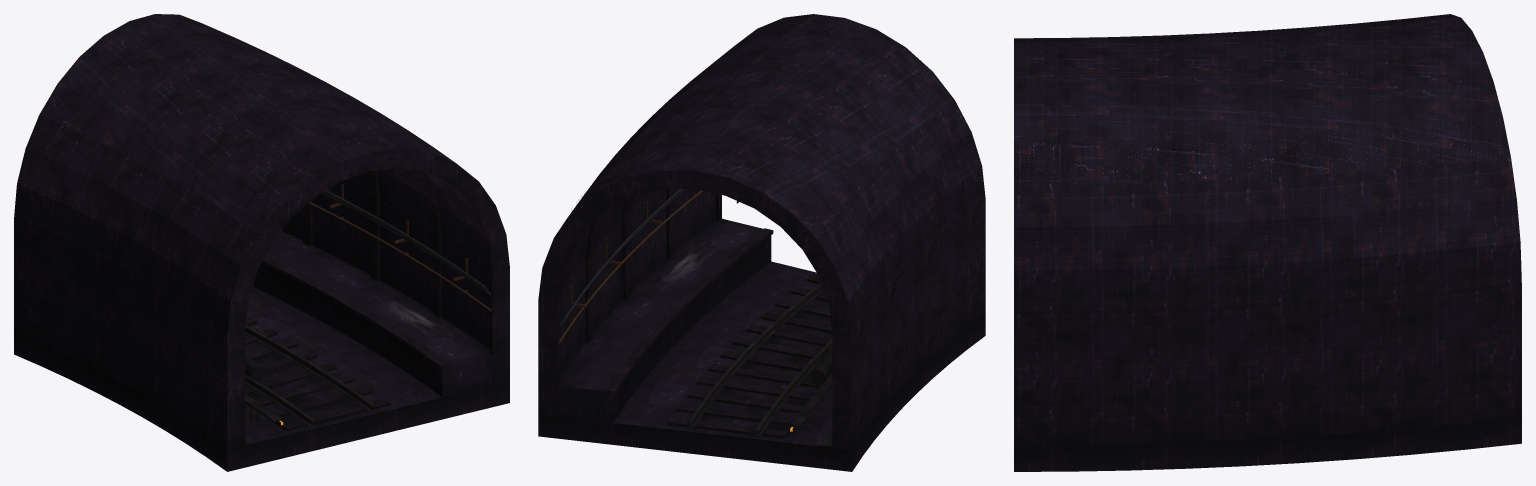
Rendered from tunnel_curve_l.glb.
3 views of the same model, side by side, from view 1: azimuth 30°, elevation 25°; view 2: azimuth 150°, elevation 25°; view 3: azimuth 270°, elevation 25° (orthographic). The views are drawn at different scales.
Visible parts, largest first — view 1: body; view 2: body; view 3: body.
Part boxes in pixels (left/top/right/bottom): body: left=14, top=14, right=509, bottom=471; body: left=538, top=14, right=985, bottom=471; body: left=1014, top=14, right=1521, bottom=471.
Size of what is drawn, in the model's own units: 7.64 by 6.45 by 8.87.
14 materials, 10 textured.
